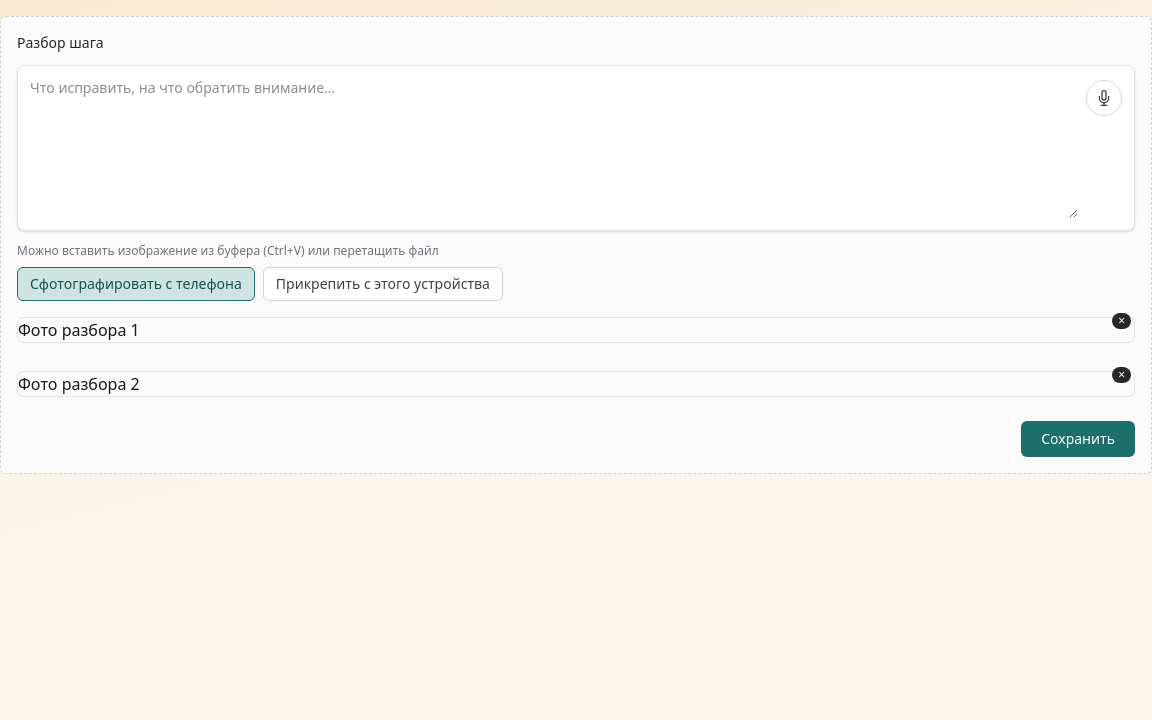
Scenario: StepFeedbackForm › opens lightbox from draft preview before save
The width and height of the screenshot is (1152, 720).
Click the button with aria-label "Открыть Фото разбора 2" at (576, 384), box [17, 363, 1135, 405]
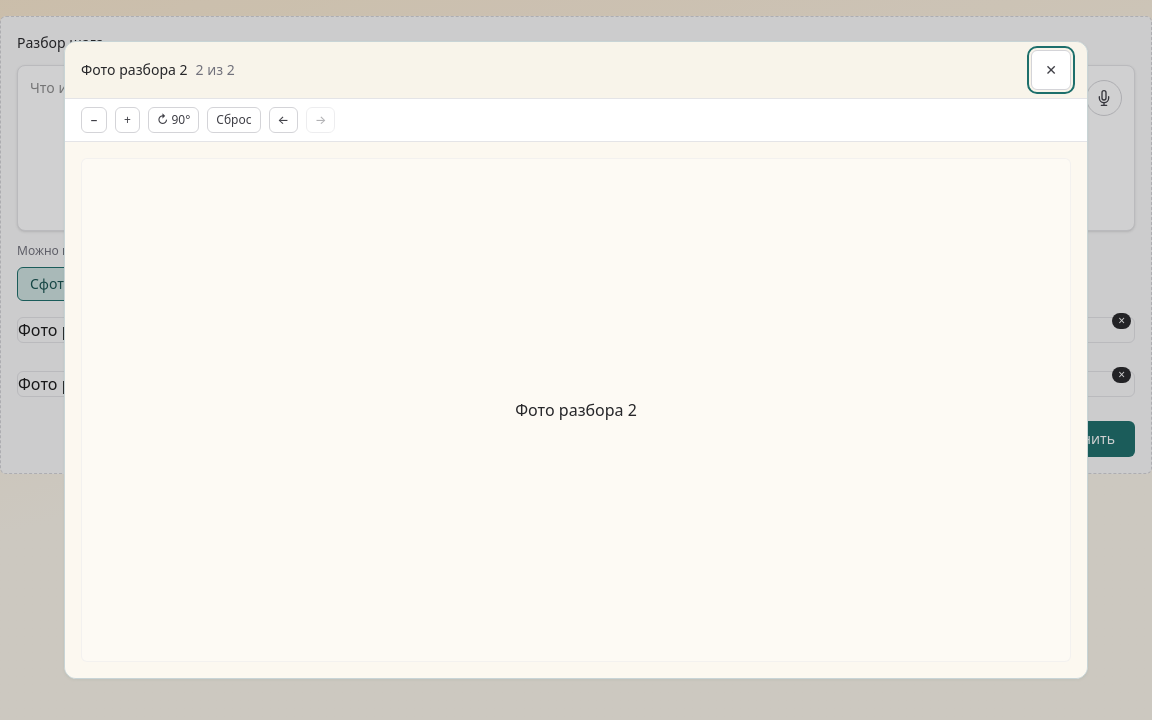
Expected: the dialog is shown
Expected: the text "2 из 2" is shown, [196, 60, 235, 79]
